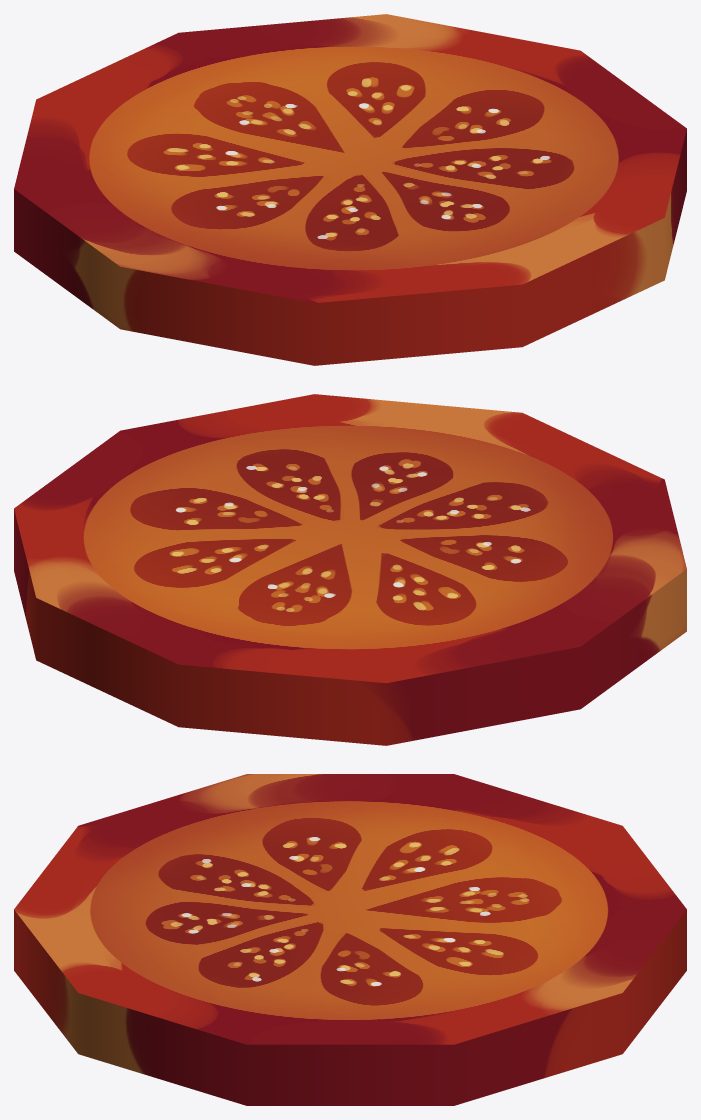
File: Tomato_Slice.fbx
3 renders of one model, top to bottom at view 1: azimuth 30°, elevation 25°; view 2: azimuth 150°, elevation 25°; view 3: azimuth 270°, elevation 25°, orthographic. The views are drawn at different scales.
Visible parts, largest first — view 1: Tomato_Slice; view 2: Tomato_Slice; view 3: Tomato_Slice.
Part boxes in pixels (x1=…): Tomato_Slice: x1=14, y1=14, x2=686, y2=365; Tomato_Slice: x1=14, y1=394, x2=686, y2=745; Tomato_Slice: x1=14, y1=774, x2=686, y2=1105.
Size of the model in its own units: 34.26 by 3.62 by 36.02.
1 material, 1 textured.
